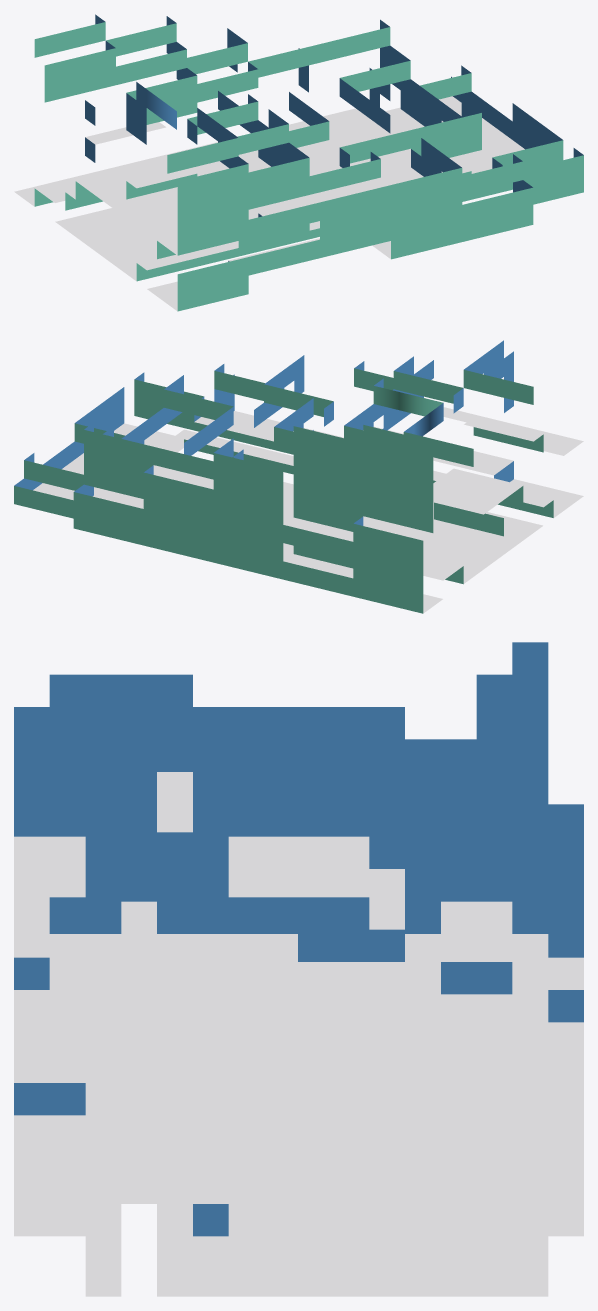
The model's file is Containers_06x16x09_a.glb.
3 views of the same model, one above another, from view 1: azimuth 30°, elevation 25°; view 2: azimuth 150°, elevation 25°; view 3: azimuth 270°, elevation 25° (orthographic). The views are drawn at different scales.
Bounding box in the file's own units: 60 × 22.5 × 39.84.
